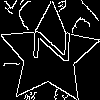Z: (24, 29, 70, 62)
